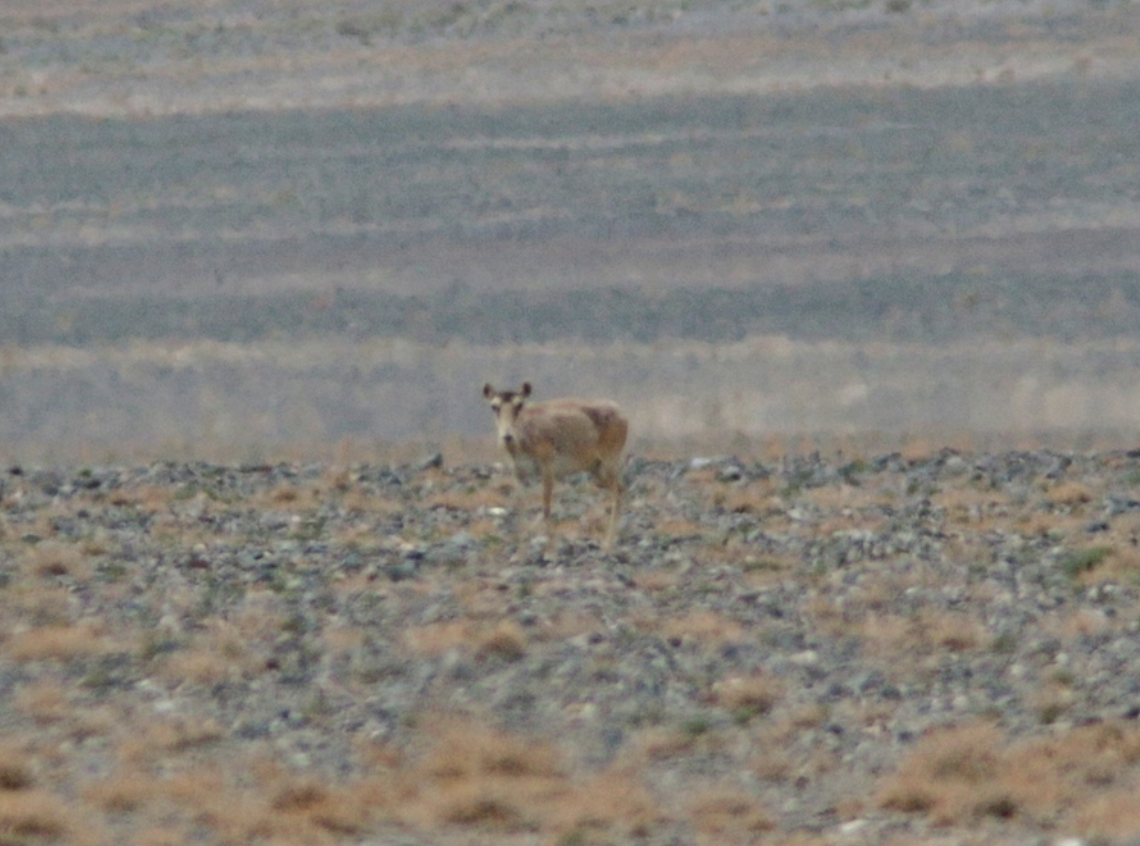saiga: (465, 368, 641, 566)
